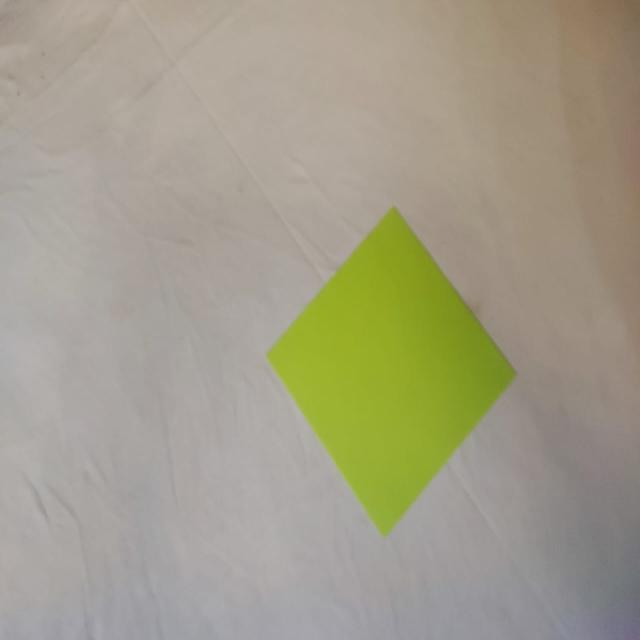Boxes: (264, 209, 517, 539)
